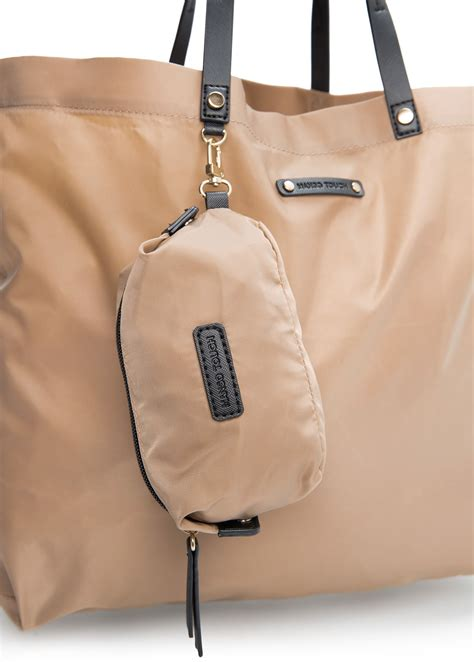nylon: (4, 52, 474, 633)
